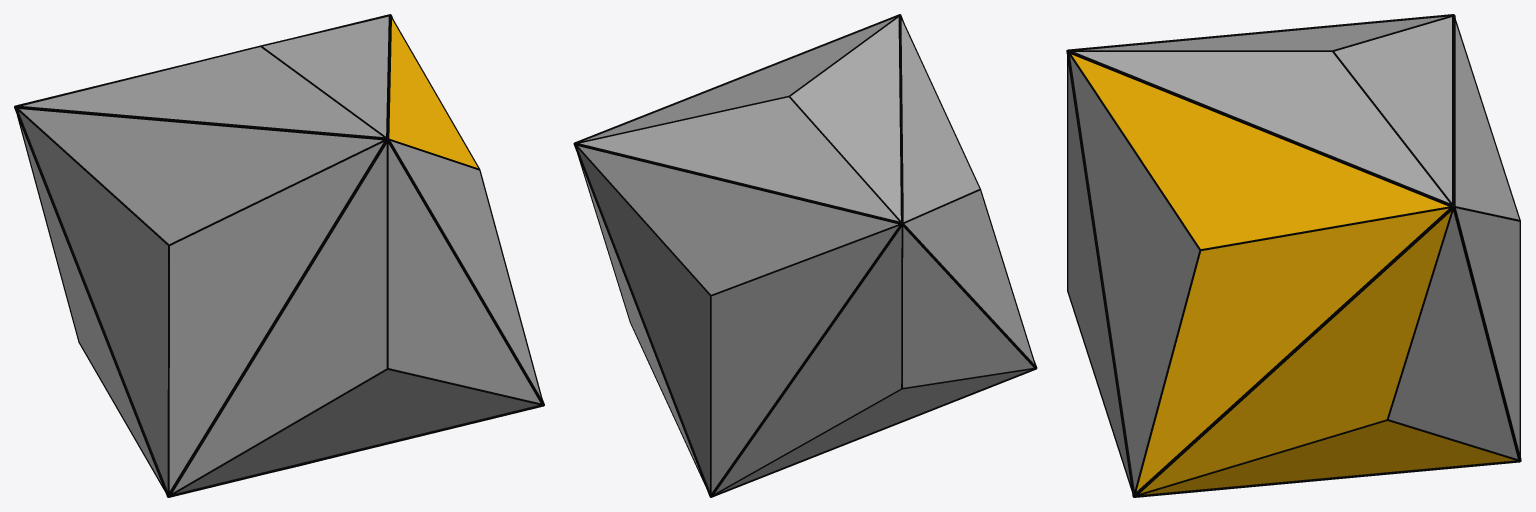
Rendered from polyformsTriOctRot_4_4.glb.
The picture shows the model from 3 angles, left to right: view 1: azimuth 30°, elevation 25°; view 2: azimuth 150°, elevation 25°; view 3: azimuth 270°, elevation 25°; orthographic projection. The views are drawn at different scales.
Bounding box in the file's own units: 3.44 × 3.44 × 3.44.
